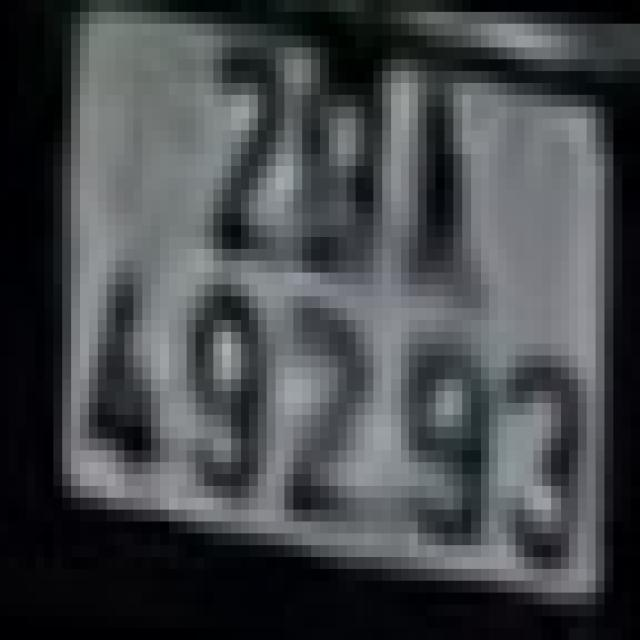2: (284, 296, 374, 522), (204, 35, 294, 249)
3: (498, 356, 586, 568)
4: (80, 261, 169, 486)
9: (400, 332, 489, 546), (186, 284, 266, 498)
B: (294, 59, 382, 273)
